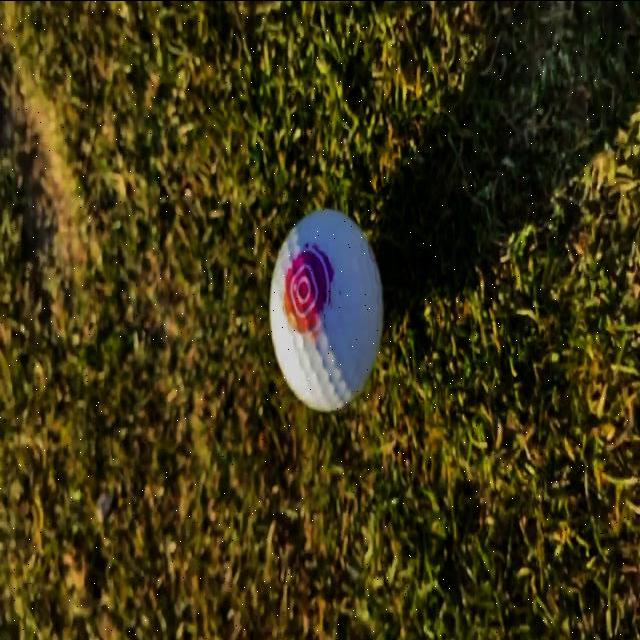GolfBall: (268, 197, 387, 411)
